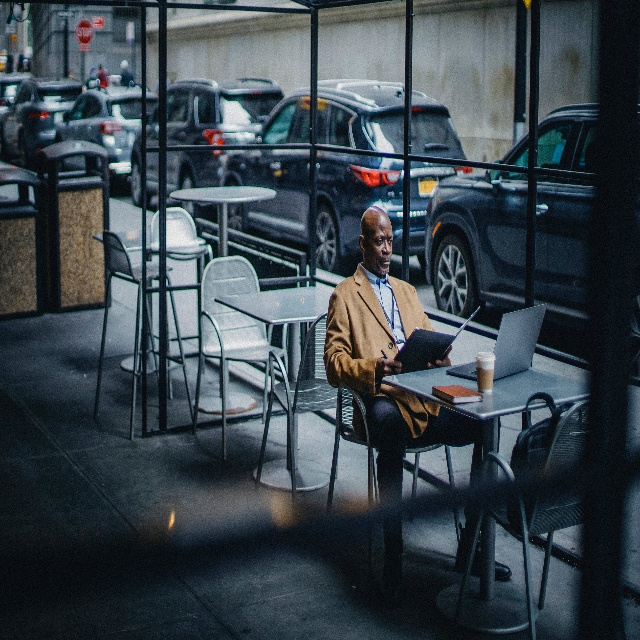Sin_guantes: (374, 355, 402, 382), (426, 344, 453, 368)
